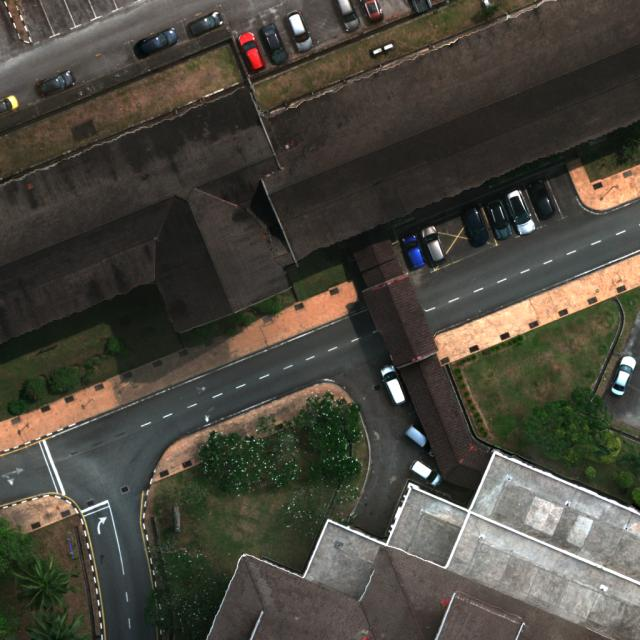blur tree: (142, 529, 230, 640), (523, 386, 614, 469), (0, 516, 38, 582), (613, 123, 640, 165), (614, 440, 640, 479)
tree: (197, 427, 302, 494), (293, 391, 363, 486), (7, 549, 81, 613), (24, 603, 91, 640)
